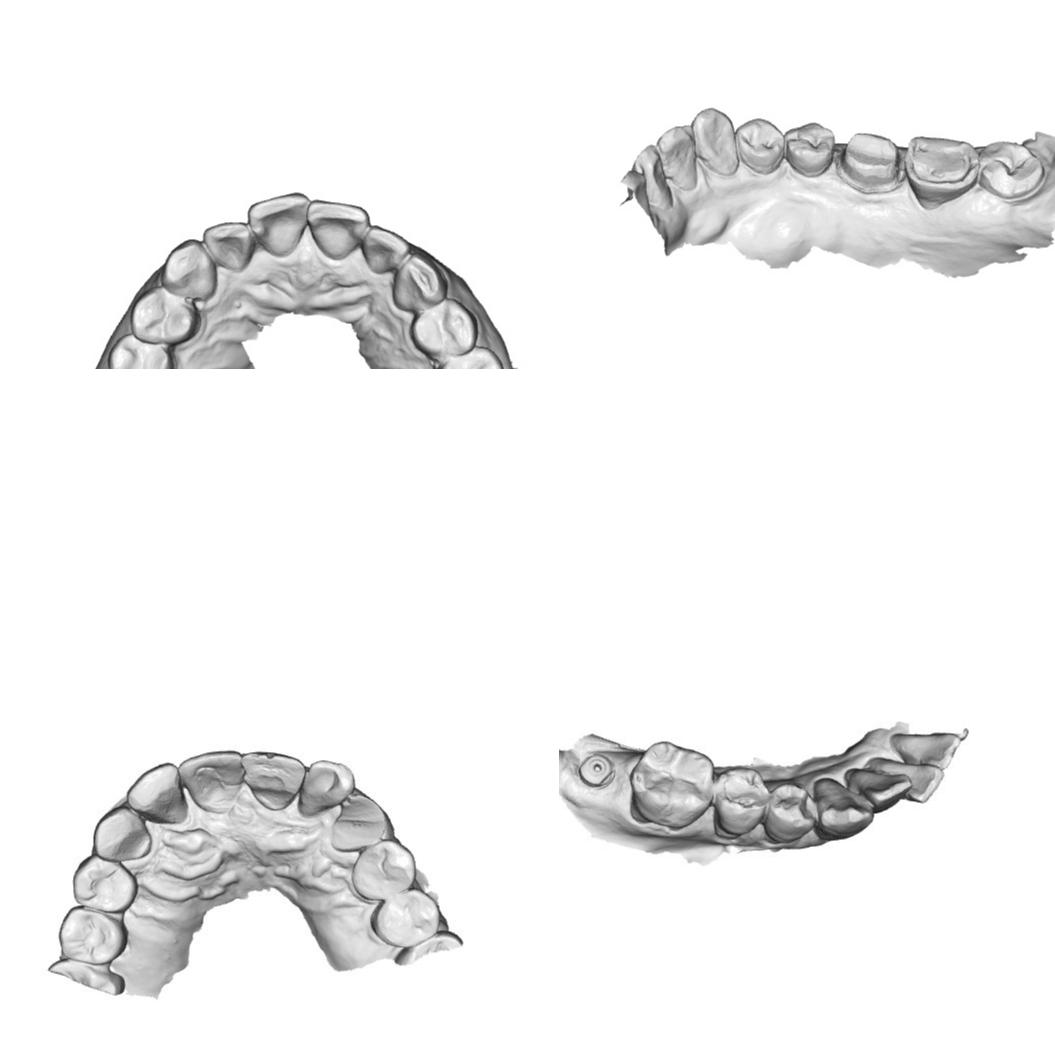canine: (158, 238, 219, 300), (814, 776, 875, 838), (381, 252, 445, 310), (329, 789, 389, 848), (93, 811, 156, 866), (691, 105, 738, 178)
crown: (835, 130, 905, 195)
implant: (575, 748, 613, 787)
incisor: (244, 189, 310, 260), (307, 200, 371, 263), (129, 765, 193, 825), (243, 748, 301, 814), (872, 751, 941, 803), (182, 749, 243, 807), (846, 760, 909, 811), (889, 729, 963, 772), (632, 143, 676, 214), (299, 761, 348, 820), (656, 123, 697, 192), (200, 219, 254, 271), (360, 223, 410, 274)
molar: (628, 744, 712, 827), (902, 134, 980, 210), (978, 140, 1044, 204)
premolar: (56, 902, 132, 966), (408, 297, 481, 355), (127, 286, 197, 346), (349, 838, 415, 901), (71, 857, 141, 916), (375, 892, 445, 951), (716, 771, 772, 841), (782, 120, 836, 179), (734, 116, 786, 175), (106, 332, 176, 369), (772, 787, 813, 841), (431, 344, 507, 369)
